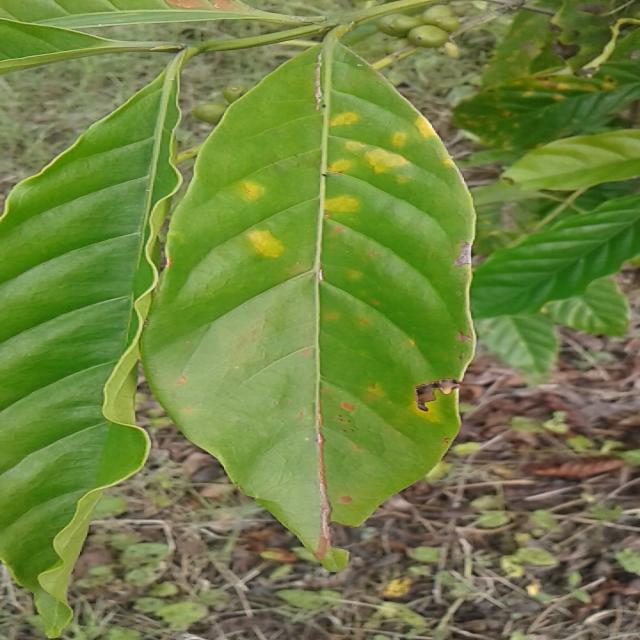Enfermedad-Roya: (139, 24, 477, 558)
